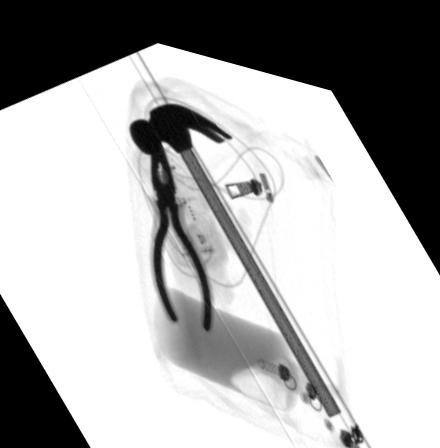Hammer: (127, 93, 342, 399)
Pliers: (147, 126, 216, 322)
